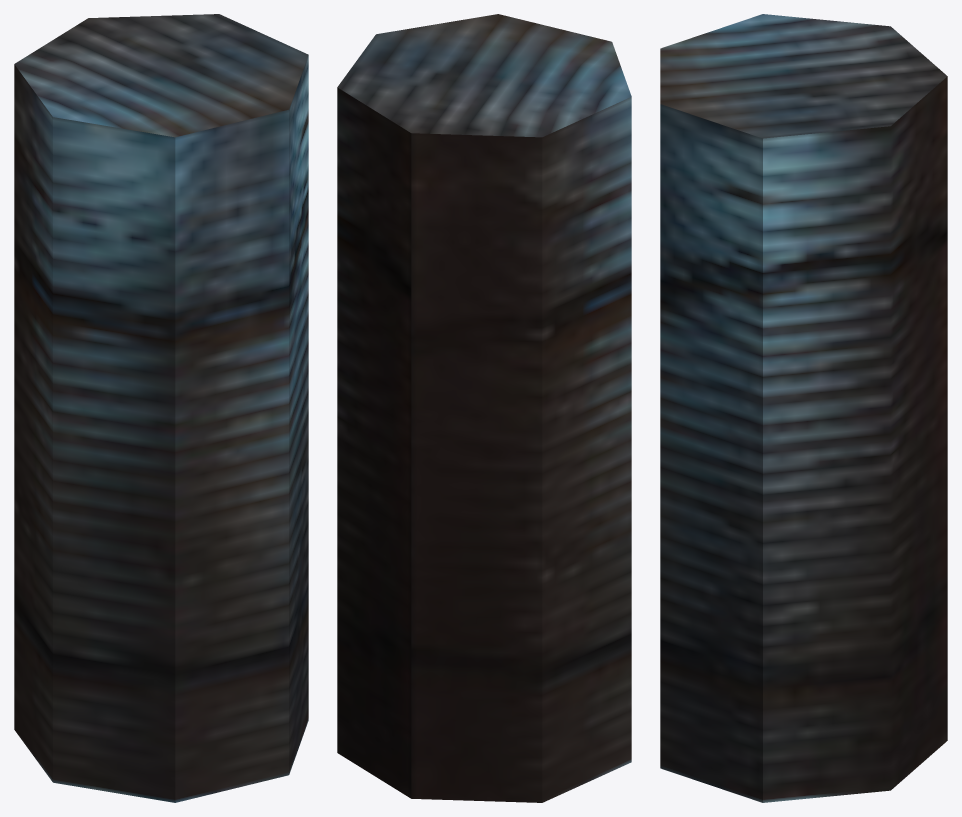
The model's file is SleepingPad01.obj.
3 views of the same model, side by side, from view 1: azimuth 30°, elevation 25°; view 2: azimuth 150°, elevation 25°; view 3: azimuth 270°, elevation 25° (orthographic).
Parts seen in each view (by area): view 1: SleepingPad01; view 2: SleepingPad01; view 3: SleepingPad01.
Boxes of the visible parts, <box> form: SleepingPad01: <box>14,14,308,802</box>; SleepingPad01: <box>337,14,631,802</box>; SleepingPad01: <box>660,14,947,802</box>.
Size of the model in its own units: 0.585 by 1.45 by 0.5703.
